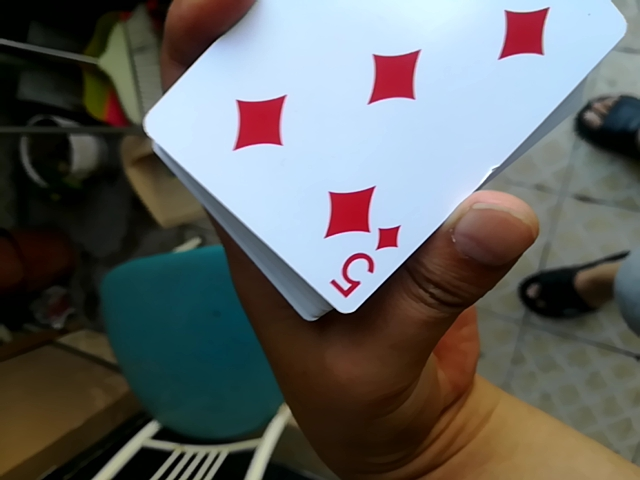fk 5: (145, 6, 629, 323)
